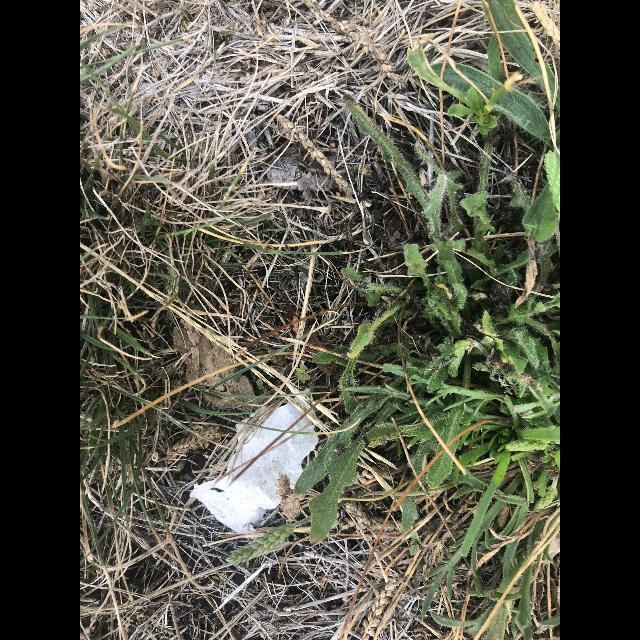Plastic: (190, 389, 318, 538)
